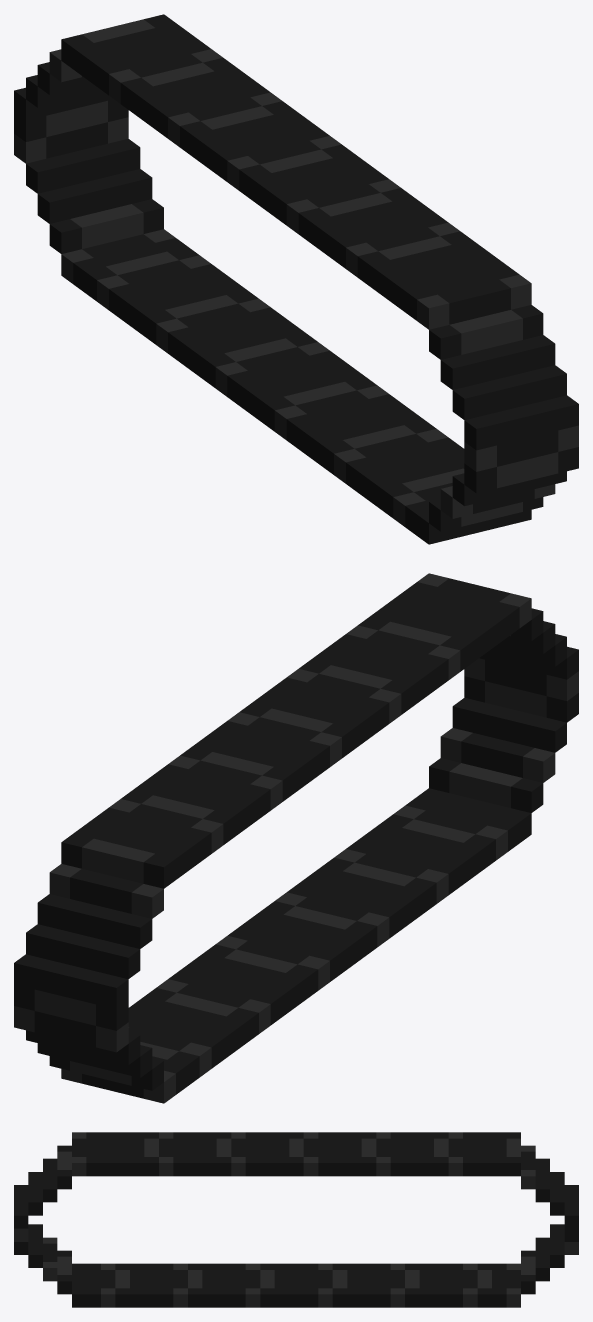
File: Tank-6.obj
3 views of the same model, one above another, from view 1: azimuth 30°, elevation 25°; view 2: azimuth 150°, elevation 25°; view 3: azimuth 270°, elevation 25° (orthographic). The views are drawn at different scales.
Bounding box in the file's own units: 0.5 × 1.1 × 3.9.
